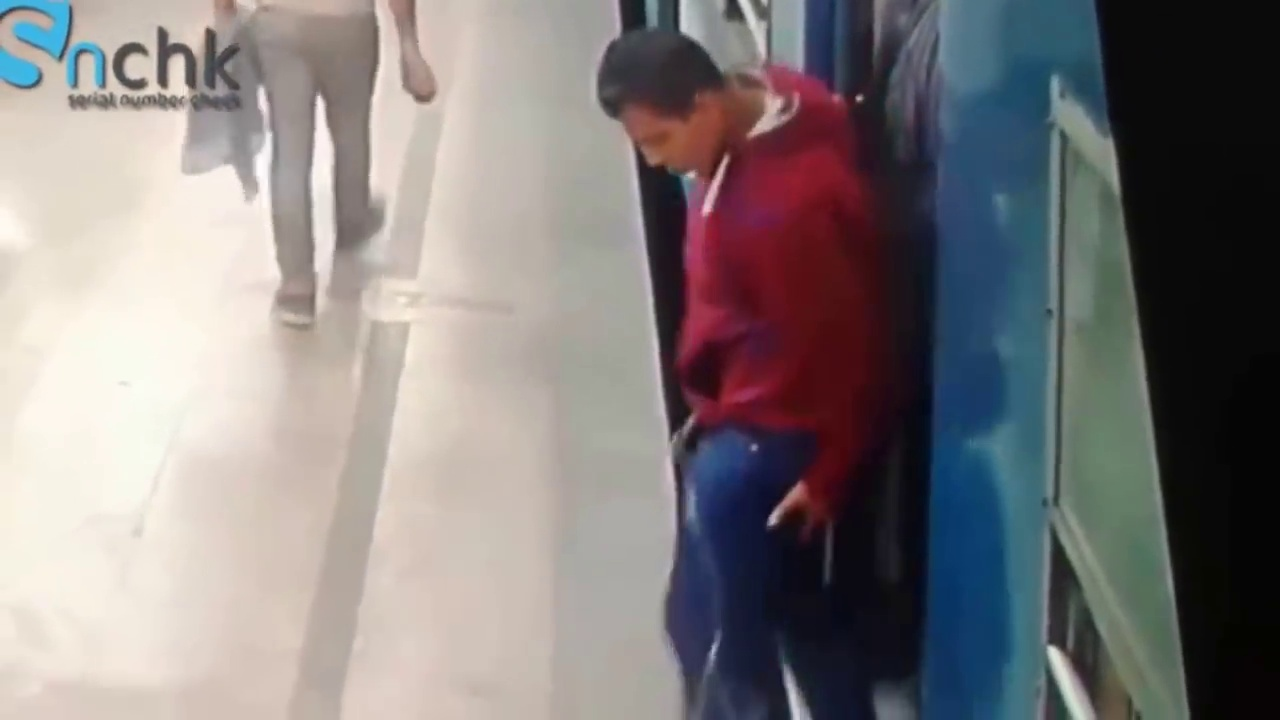face: (620, 88, 702, 190)
